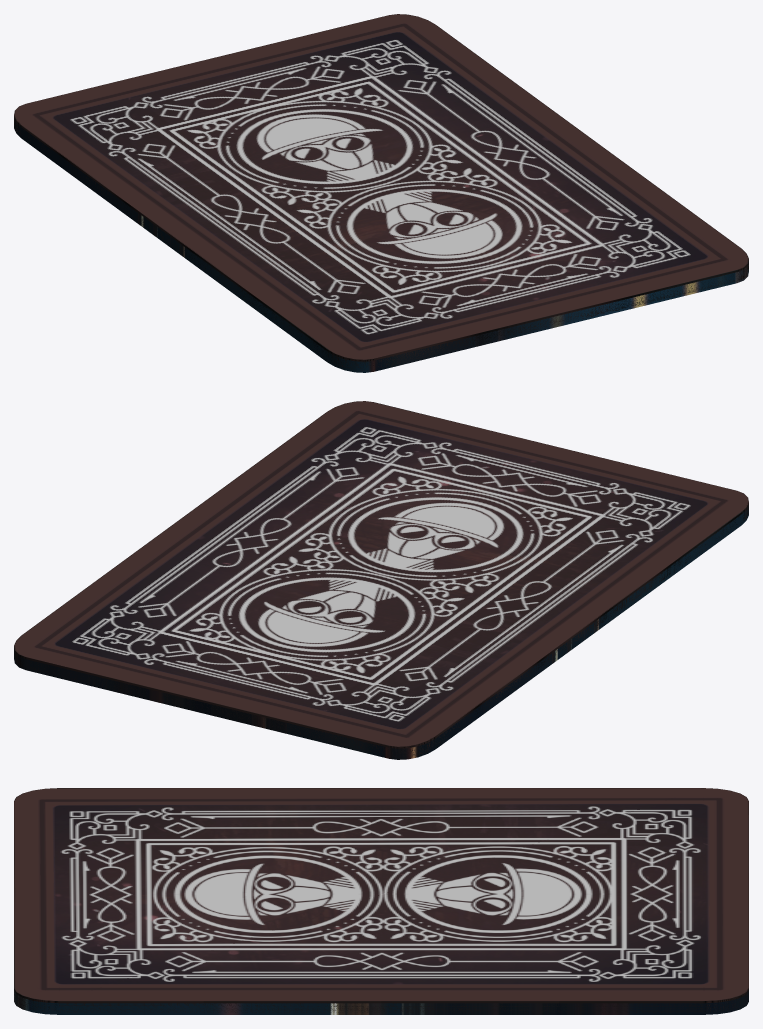
The model's file is nineof_swords_tarot.glb.
The picture shows the model from 3 angles, top to bottom: view 1: azimuth 30°, elevation 25°; view 2: azimuth 150°, elevation 25°; view 3: azimuth 270°, elevation 25°; orthographic projection. The views are drawn at different scales.
Parts seen in each view (by area): view 1: Plane.002, Plane.001; view 2: Plane.002, Plane.001; view 3: Plane.002, Plane.001.
Boxes of the visible parts, x1,y1,x2,y2 form: Plane.002: [14, 14, 748, 370]; Plane.001: [14, 118, 748, 372]; Plane.002: [14, 401, 748, 756]; Plane.001: [14, 505, 748, 759]; Plane.002: [14, 788, 748, 1012]; Plane.001: [14, 990, 748, 1014].
Bounding box in the file's own units: 2.28 × 0.0684 × 3.32.
2 materials, 2 textured.
